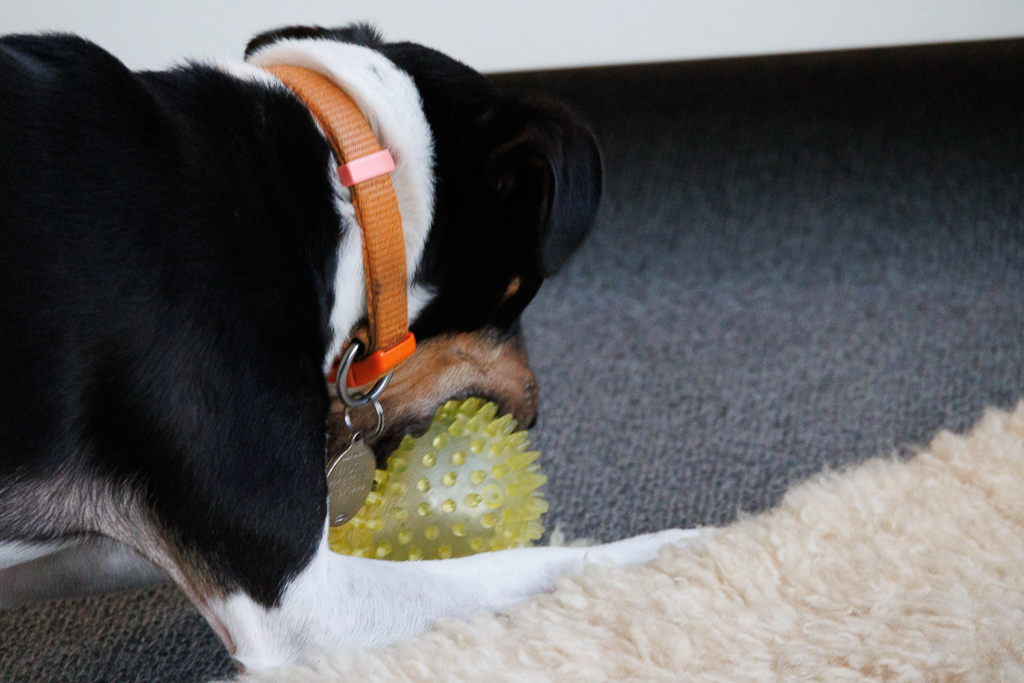Dog: (0, 11, 729, 682)
